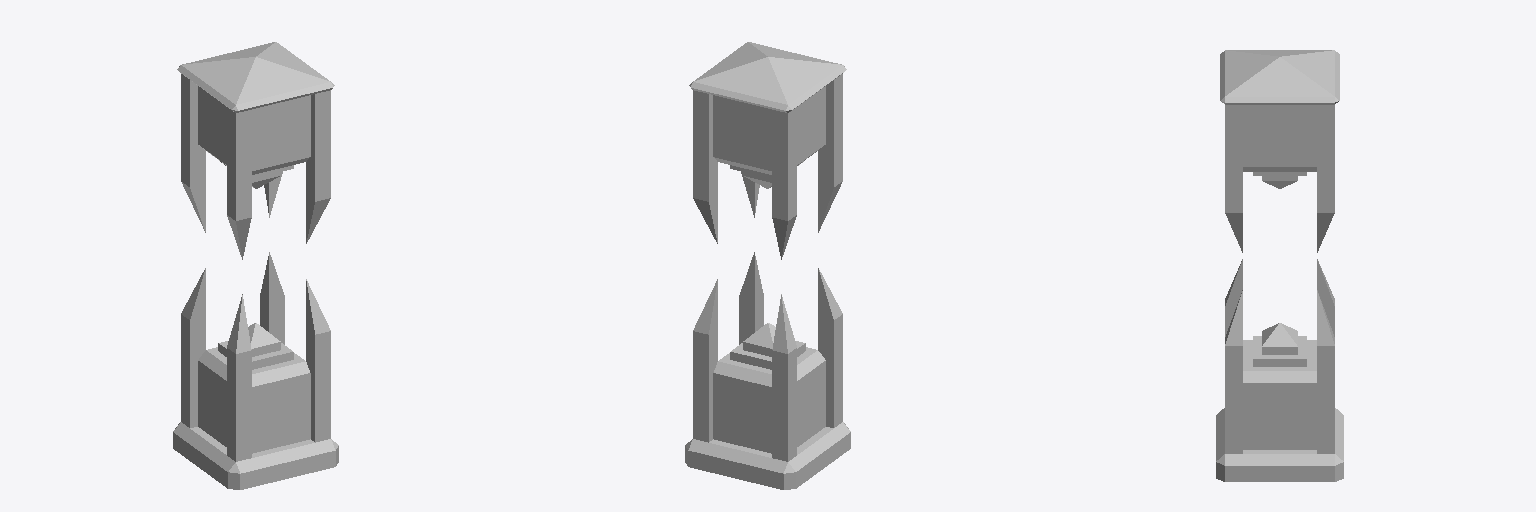
Rendered from conjurer.obj.
The picture shows the model from 3 angles: view 1: azimuth 30°, elevation 25°; view 2: azimuth 150°, elevation 25°; view 3: azimuth 270°, elevation 25°; orthographic projection.
Parts seen in each view (by area): view 1: CONJURER_Plane.001; view 2: CONJURER_Plane.001; view 3: CONJURER_Plane.001.
Boxes of the visible parts, box(x1,y1,x2,y2) form: CONJURER_Plane.001: box(173, 42, 338, 489); CONJURER_Plane.001: box(685, 42, 850, 489); CONJURER_Plane.001: box(1216, 50, 1343, 481).
Size of the model in its own units: 0.875 by 3 by 0.875.